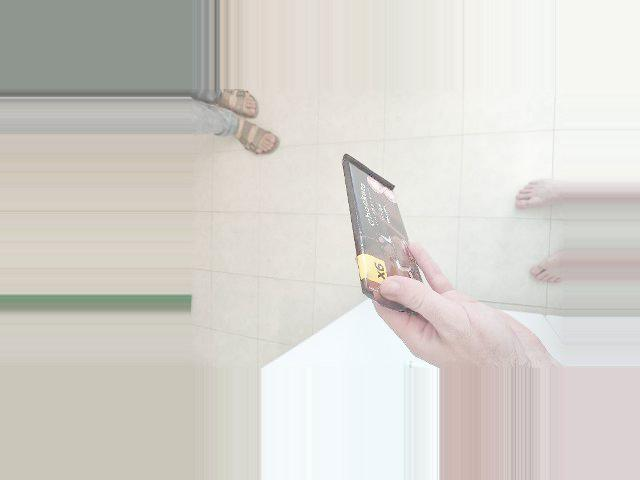chocolate: (335, 146, 443, 330)
